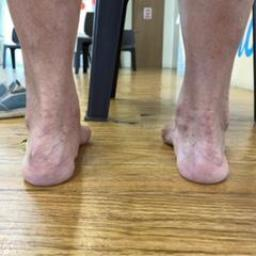Back View -Both Feet-: (12, 65, 245, 197)
